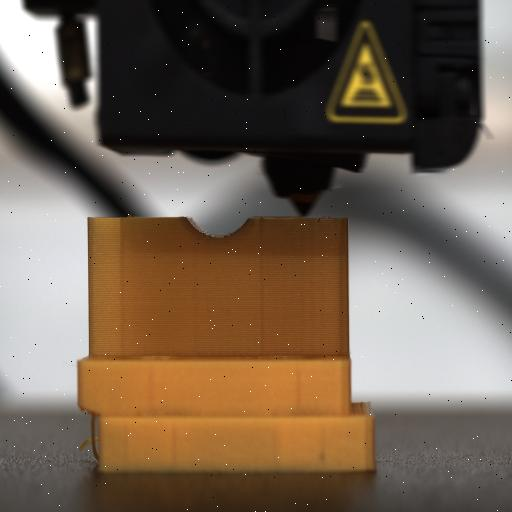layer_shift: (78, 400, 374, 422)
